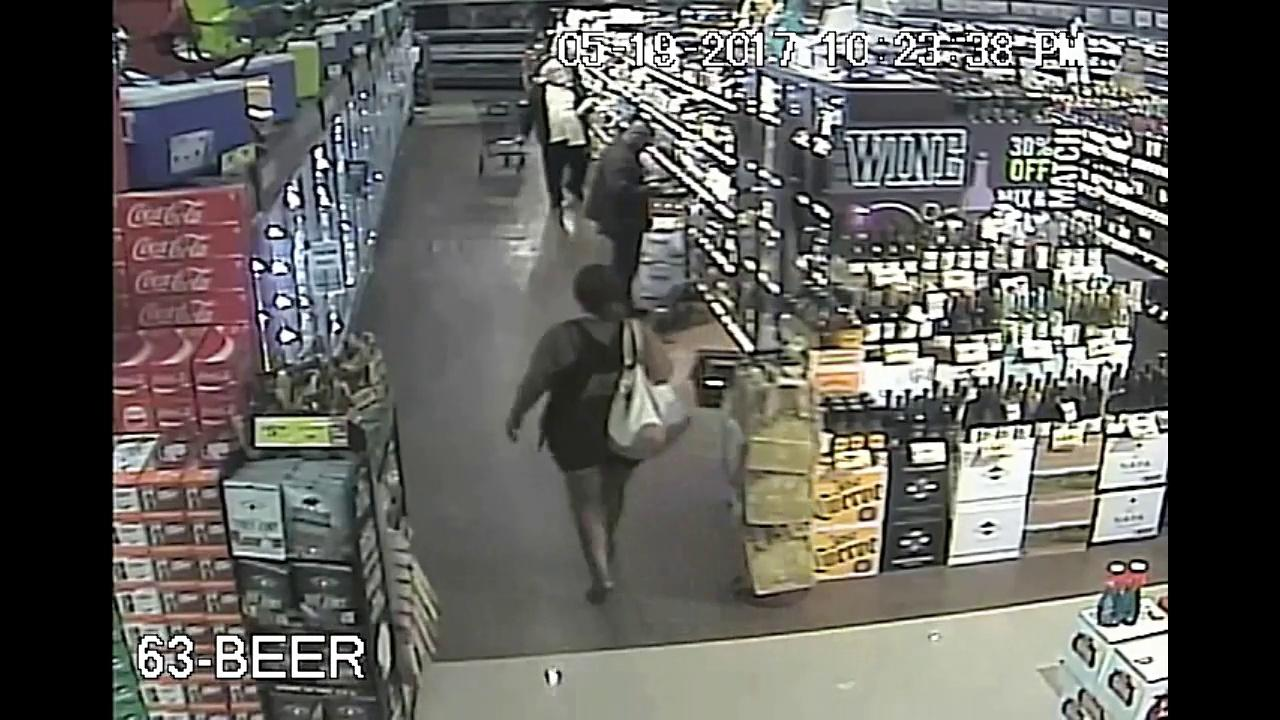Customer-Bagpack: (608, 368, 712, 471)
Product: (650, 168, 676, 190)
Product-Picked: (576, 103, 696, 334)
Regular: (492, 250, 684, 617), (516, 50, 594, 195)
